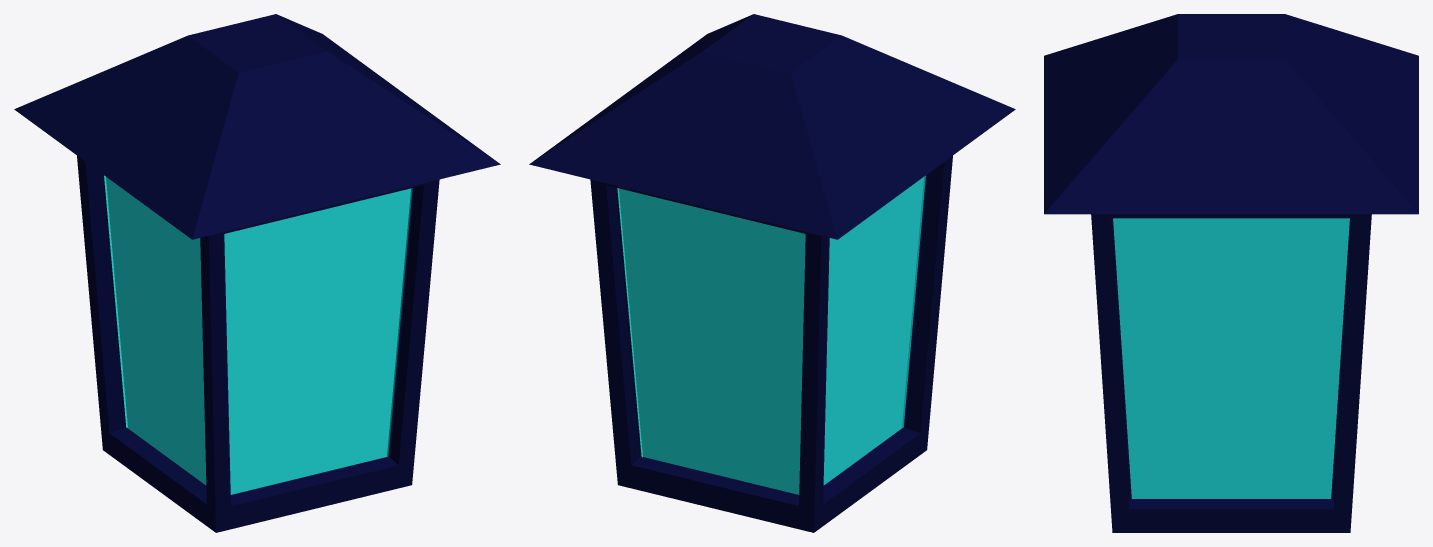
File: fonar1.fbx
The picture shows the model from 3 angles, left to right: view 1: azimuth 30°, elevation 25°; view 2: azimuth 150°, elevation 25°; view 3: azimuth 270°, elevation 25°; orthographic projection. The views are drawn at different scales.
Visible parts, largest first — view 1: Cube; view 2: Cube; view 3: Cube.
Boxes of the visible parts, x1,y1,x2,y2 form: Cube: (14, 14, 500, 532); Cube: (529, 14, 1015, 532); Cube: (1044, 14, 1418, 532).
Bounding box in the file's own units: 265 × 347 × 265.
